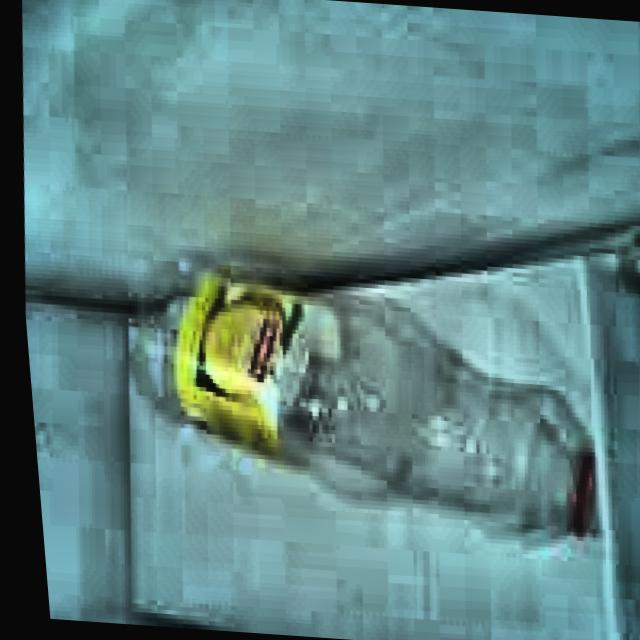Bottles: (92, 226, 628, 576)
